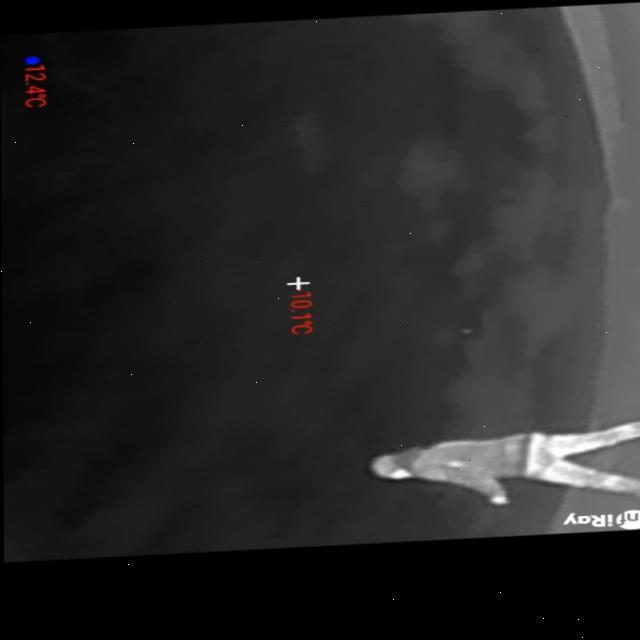drone: (457, 329, 475, 340)
